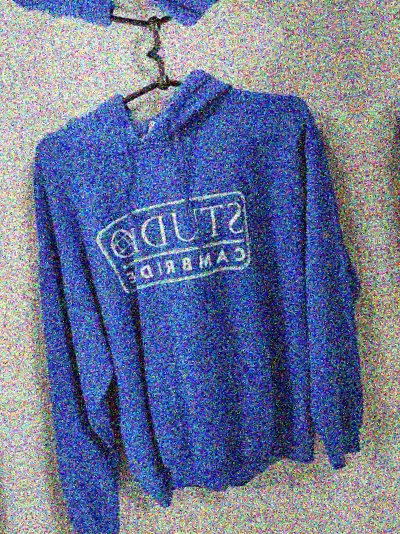Hoodie: (0, 43, 383, 534), (0, 0, 308, 68), (0, 99, 24, 534), (381, 0, 400, 488), (305, 0, 400, 5)
